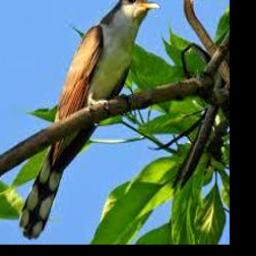Cuckoo: (18, 0, 161, 240)
